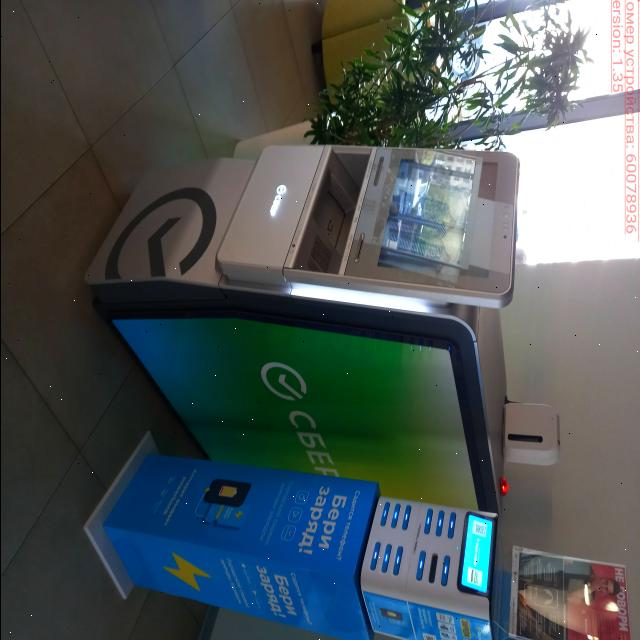bank: (85, 130, 522, 537)
